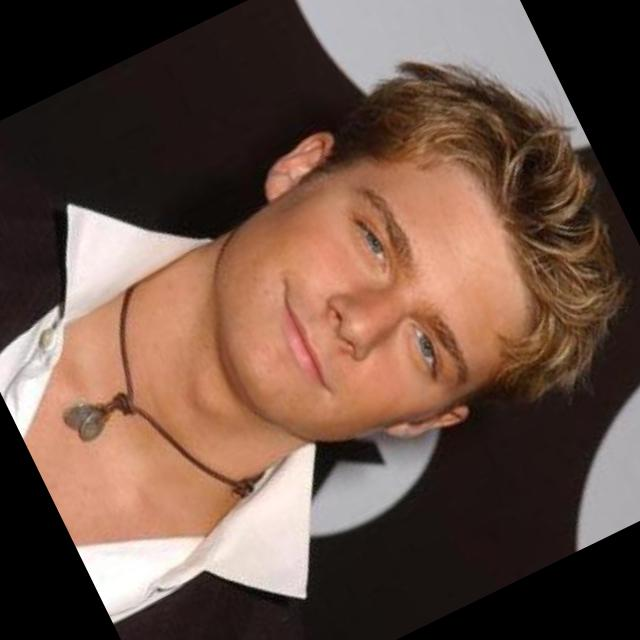bareface: (169, 58, 617, 482)
